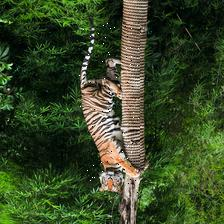tiger: (79, 22, 140, 194)
